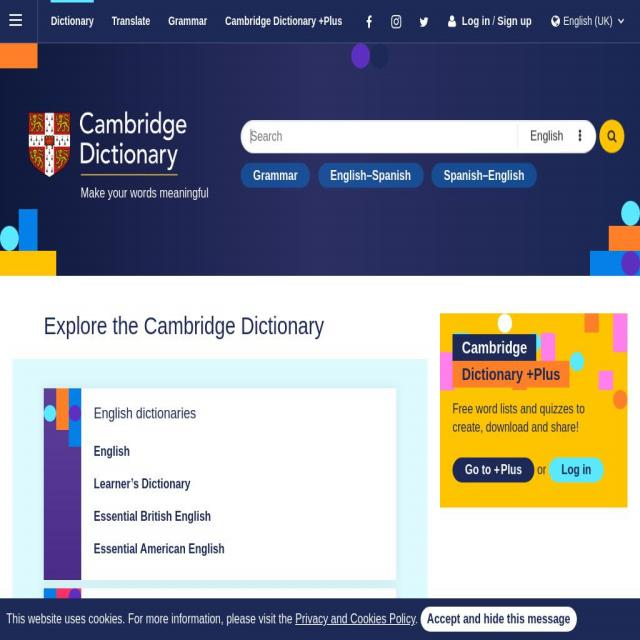follow-options: (361, 3, 434, 37)
language: (550, 10, 631, 32)
login-option: (447, 5, 492, 40)
navigation-blocks: (32, 370, 404, 600)
navigation-links: (44, 5, 350, 33)
options: (1, 3, 32, 40)
search: (233, 110, 632, 202)
sign-up-option: (499, 7, 536, 35)
